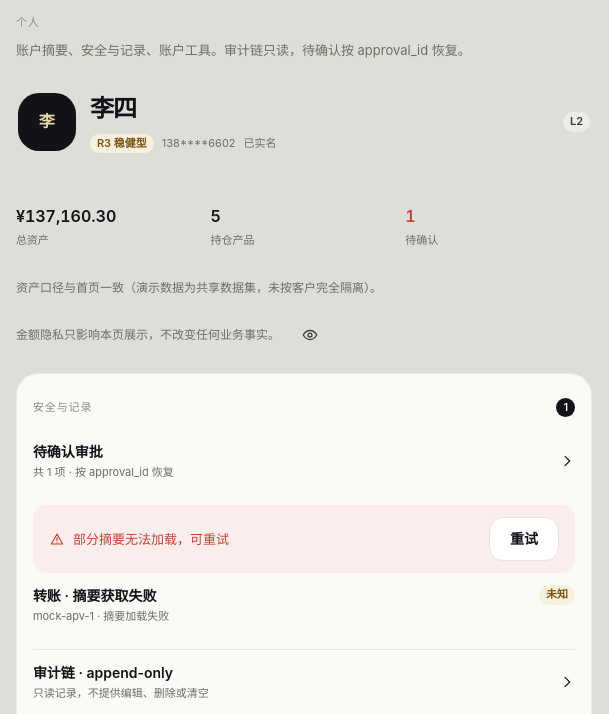
Test: 个人中心 · 跨业务待确认 › 摘要查询失败保留入口并可重试
Check: the text "mock-apv-1 · 摘要加载失败" is shown, box 33,609 -> 169,623
Check: the text "部分摘要无法加载，可重试" is shown, box 73,531 -> 229,547
Click the button "重试".
click(524, 539)  # box 489,517 -> 559,561
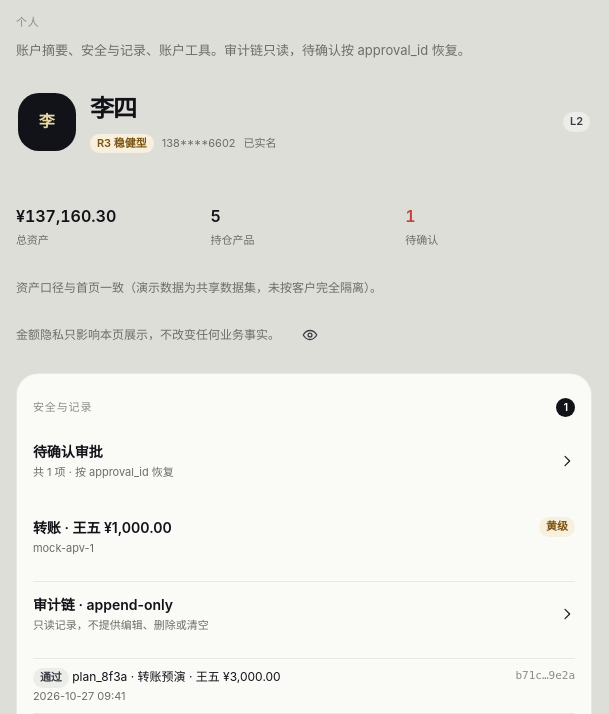
Check: the text "转账 · 王五 ¥1,000.00" is shown, box 33,519 -> 172,536
